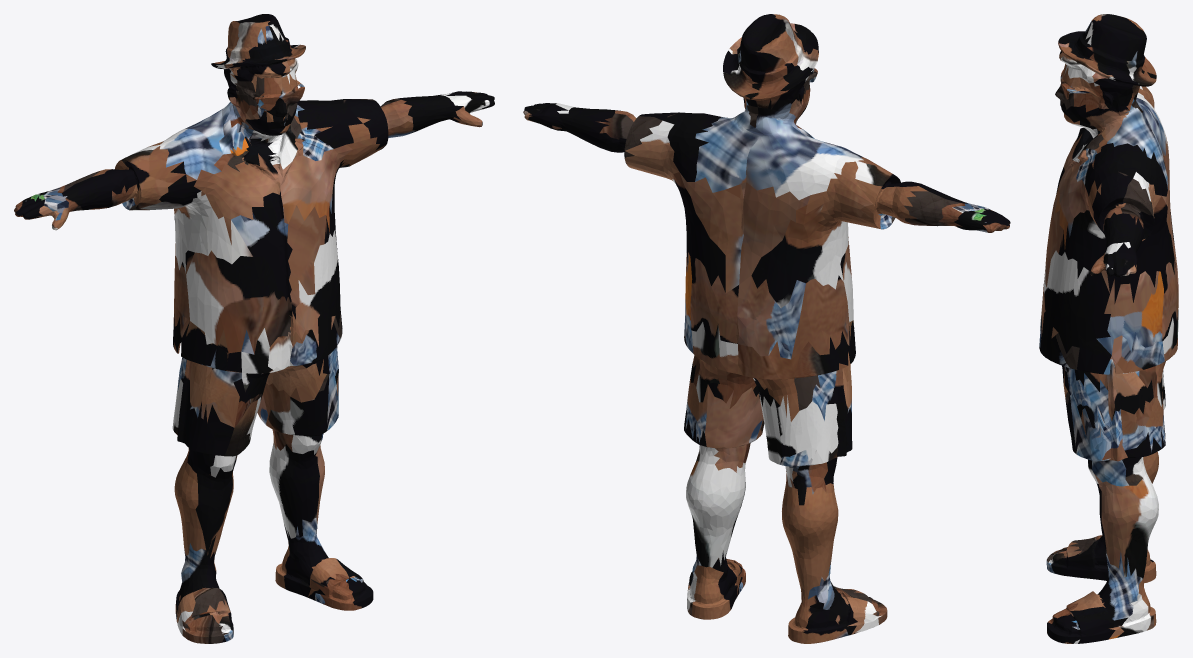
Rendered from gilmar-gordo.obj.
3 renders of one model, left to right at view 1: azimuth 30°, elevation 25°; view 2: azimuth 150°, elevation 25°; view 3: azimuth 270°, elevation 25°, orthographic. The views are drawn at different scales.
Visible parts, largest first — view 1: Mesh_0.002; view 2: Mesh_0.002; view 3: Mesh_0.002.
Boxes of the visible parts, box(x1,y1,x2,y2) form: Mesh_0.002: box(14, 14, 494, 643); Mesh_0.002: box(523, 14, 1010, 643); Mesh_0.002: box(1039, 14, 1178, 643).
Size of the model in its own units: 1.62 by 1.9 by 0.4128.
